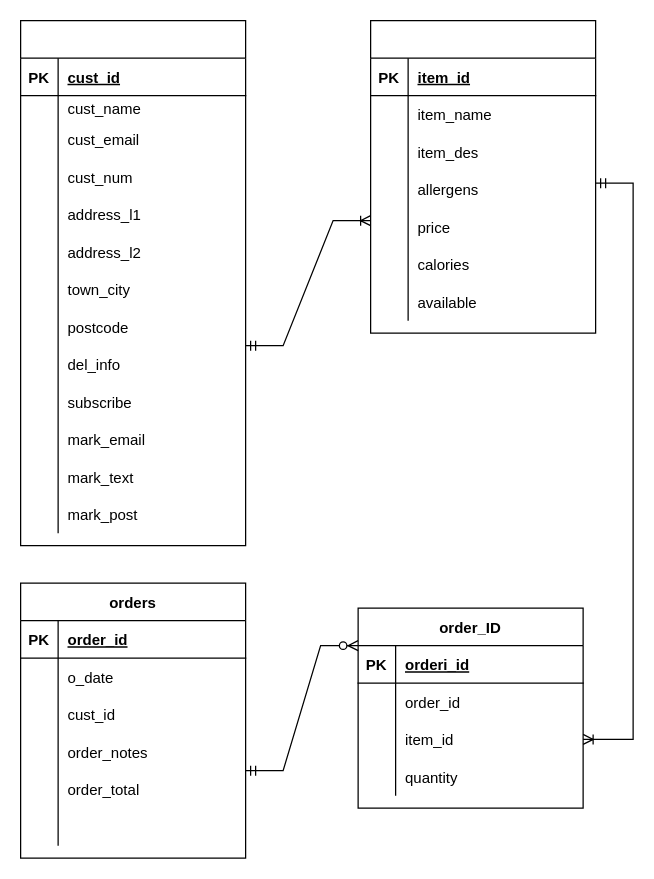
Image size: 654x879. Some labels were removed from this diagram. The box of each missing label's shape, as (x1, y1, x2, y2) in pixels:
customers: (19, 19, 246, 546)
menu: (369, 19, 596, 333)
